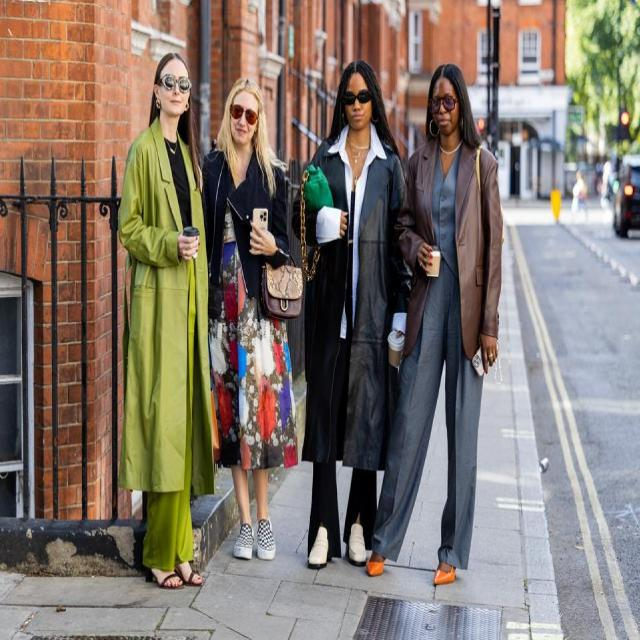Jacket: (112, 117, 232, 495), (295, 140, 409, 475), (397, 138, 504, 381), (196, 140, 296, 340)
